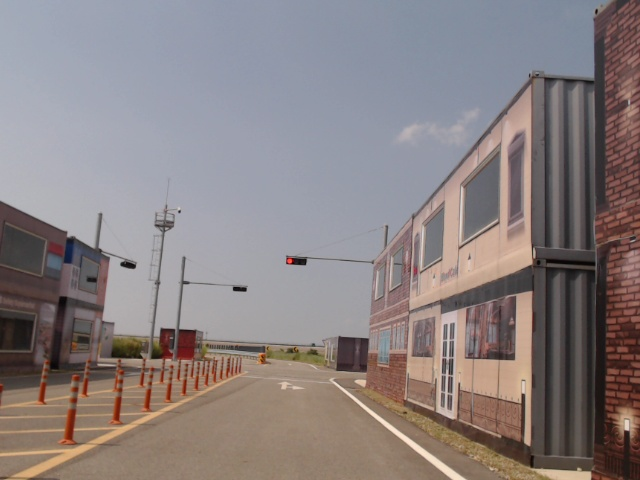red_3: (287, 257, 306, 264)
